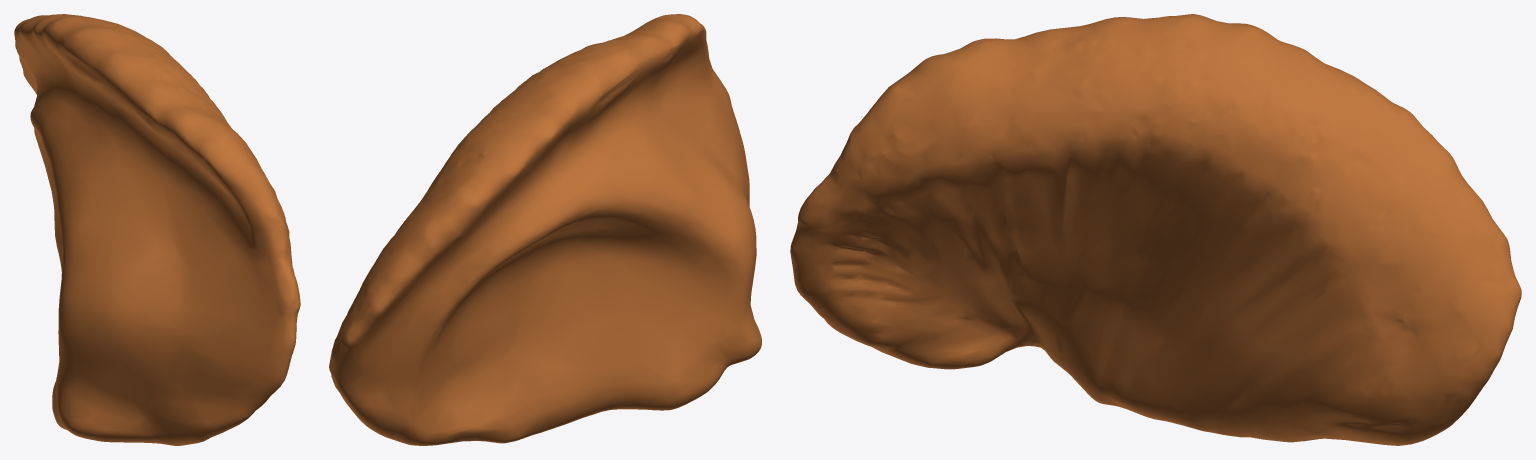
The model's file is Internal_capsule_left.glb.
3 renders of one model, left to right at view 1: azimuth 30°, elevation 25°; view 2: azimuth 150°, elevation 25°; view 3: azimuth 270°, elevation 25°, orthographic. The views are drawn at different scales.
Parts seen in each view (by area): view 1: Internal_capsule.l_grp1.080; view 2: Internal_capsule.l_grp1.080; view 3: Internal_capsule.l_grp1.080.
Boxes of the visible parts, bbox=[...] form: Internal_capsule.l_grp1.080: bbox=[14, 14, 300, 445]; Internal_capsule.l_grp1.080: bbox=[329, 14, 761, 445]; Internal_capsule.l_grp1.080: bbox=[790, 14, 1521, 445].
Size of the model in its own units: 0.0222 by 0.0323 by 0.0526.
